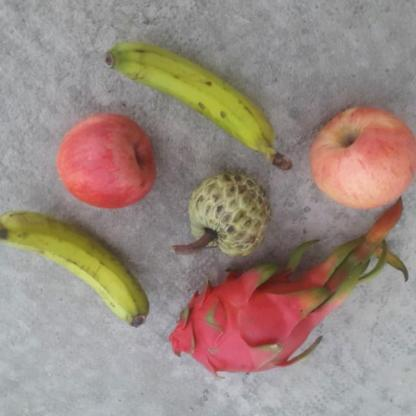annona: (178, 170, 272, 258)
apple: (305, 100, 415, 212), (50, 110, 159, 212)
banana: (103, 39, 296, 174), (0, 213, 152, 329)
pitaya: (166, 264, 333, 385)
